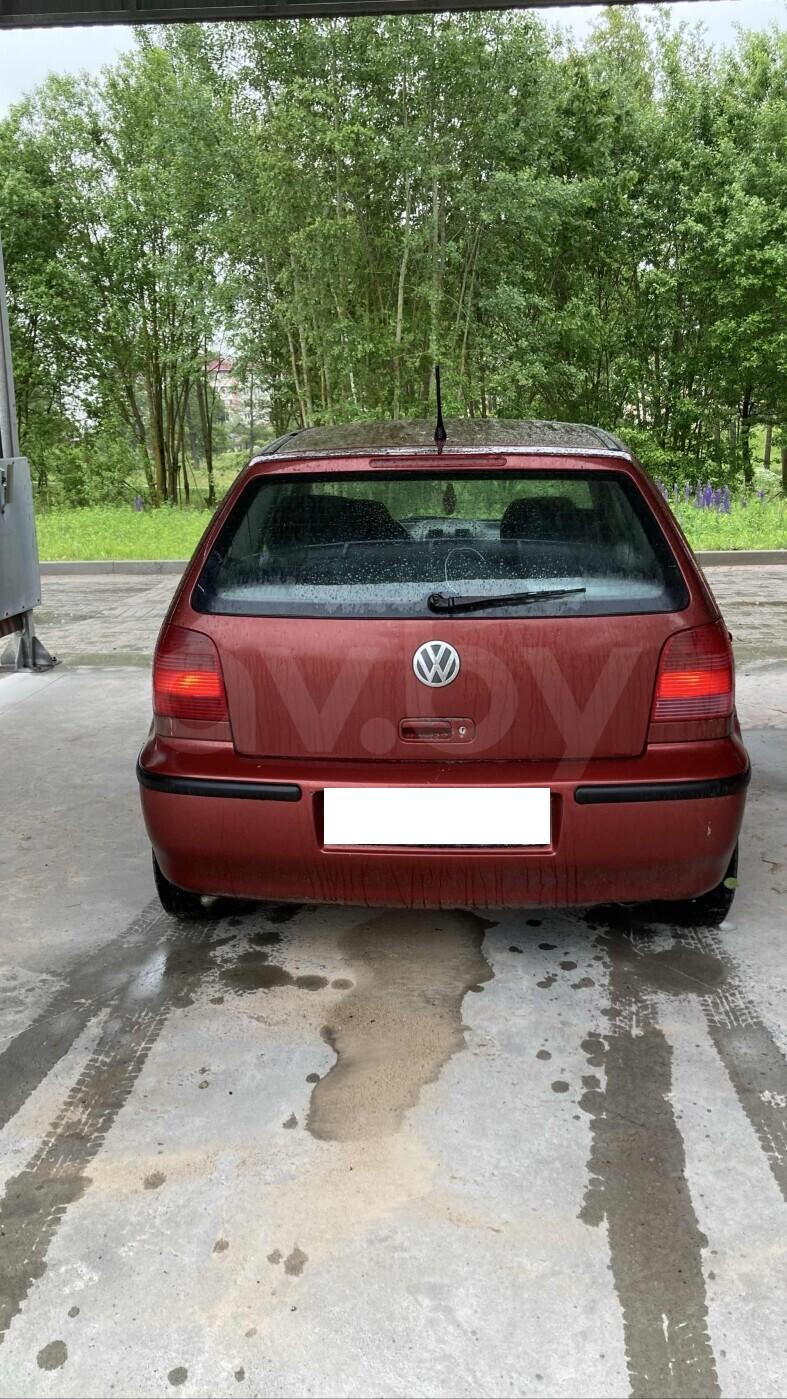Polo_2000-2002: (132, 406, 770, 948)
